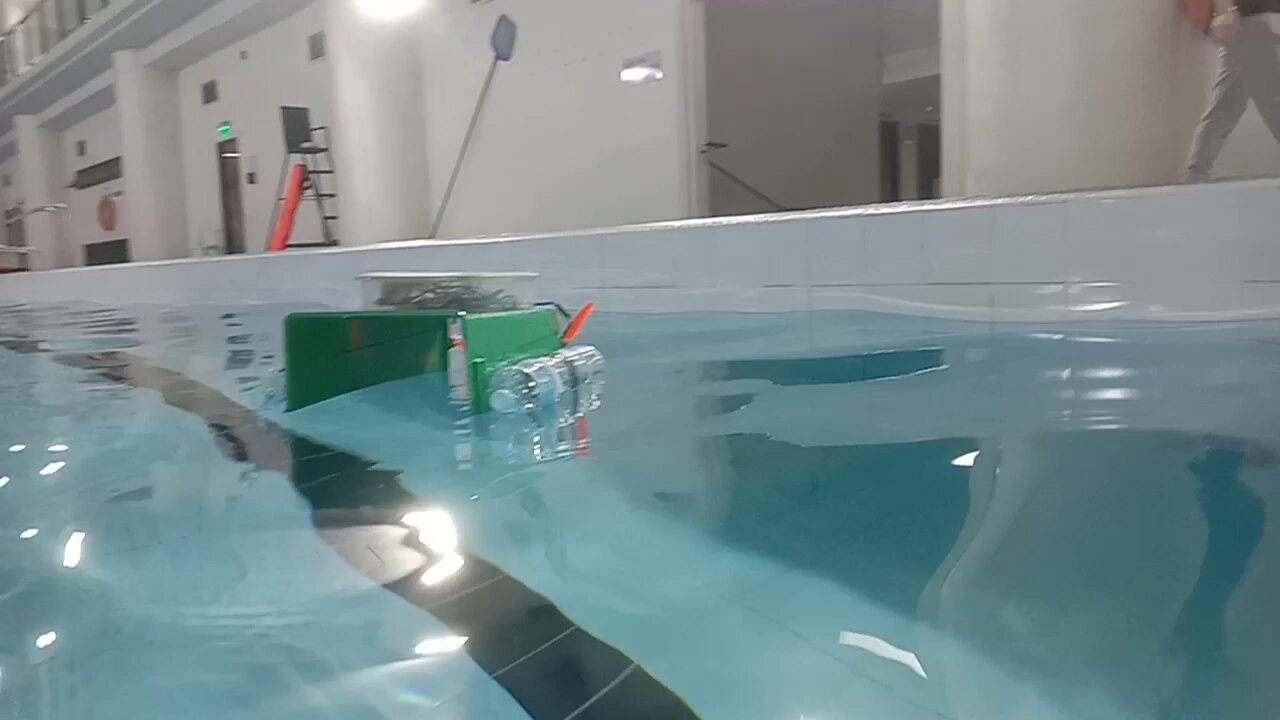drone: (251, 267, 605, 419)
